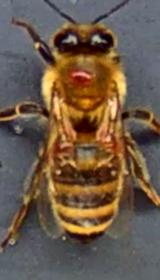varroa_mite: (91, 118, 130, 162), (45, 124, 80, 163), (62, 62, 101, 90)
